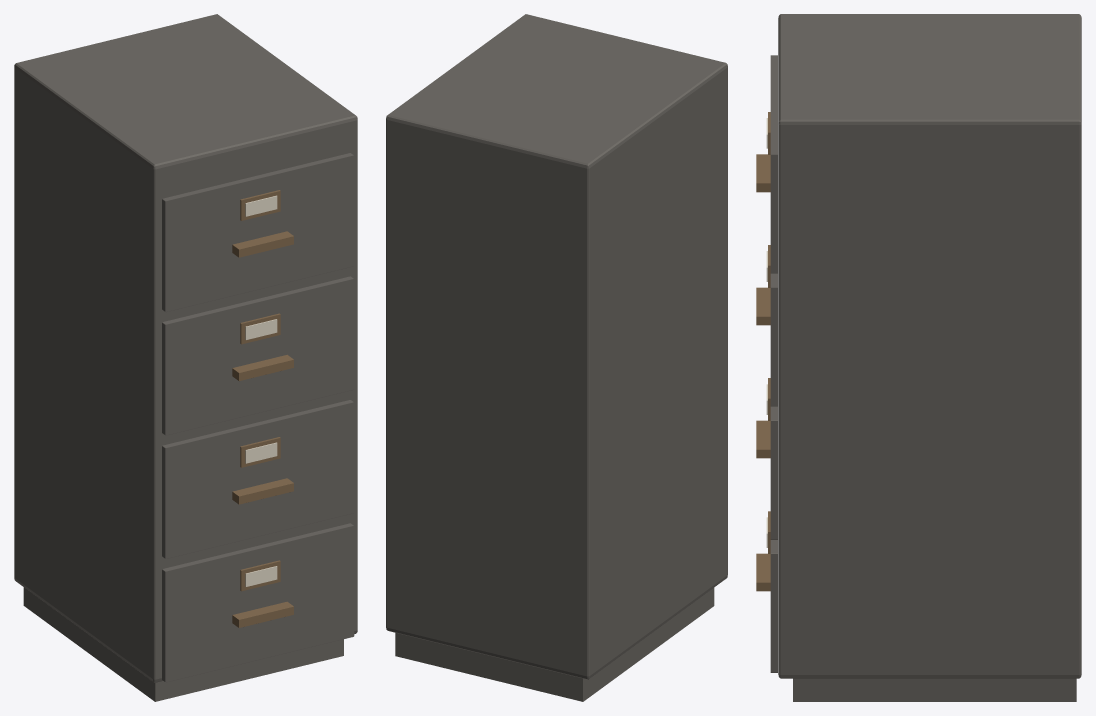
Rendered from dr_cab.glb.
The picture shows the model from 3 angles, left to right: view 1: azimuth 30°, elevation 25°; view 2: azimuth 150°, elevation 25°; view 3: azimuth 270°, elevation 25°; orthographic projection. The views are drawn at different scales.
Visible parts, largest first — view 1: dr_cab; view 2: dr_cab; view 3: dr_cab.
Boxes of the visible parts, x1,y1,x2,y2 form: dr_cab: [14, 14, 357, 701]; dr_cab: [386, 14, 727, 701]; dr_cab: [756, 14, 1081, 701].
Bounding box in the file's own units: 0.52 × 1.32 × 0.6651.
